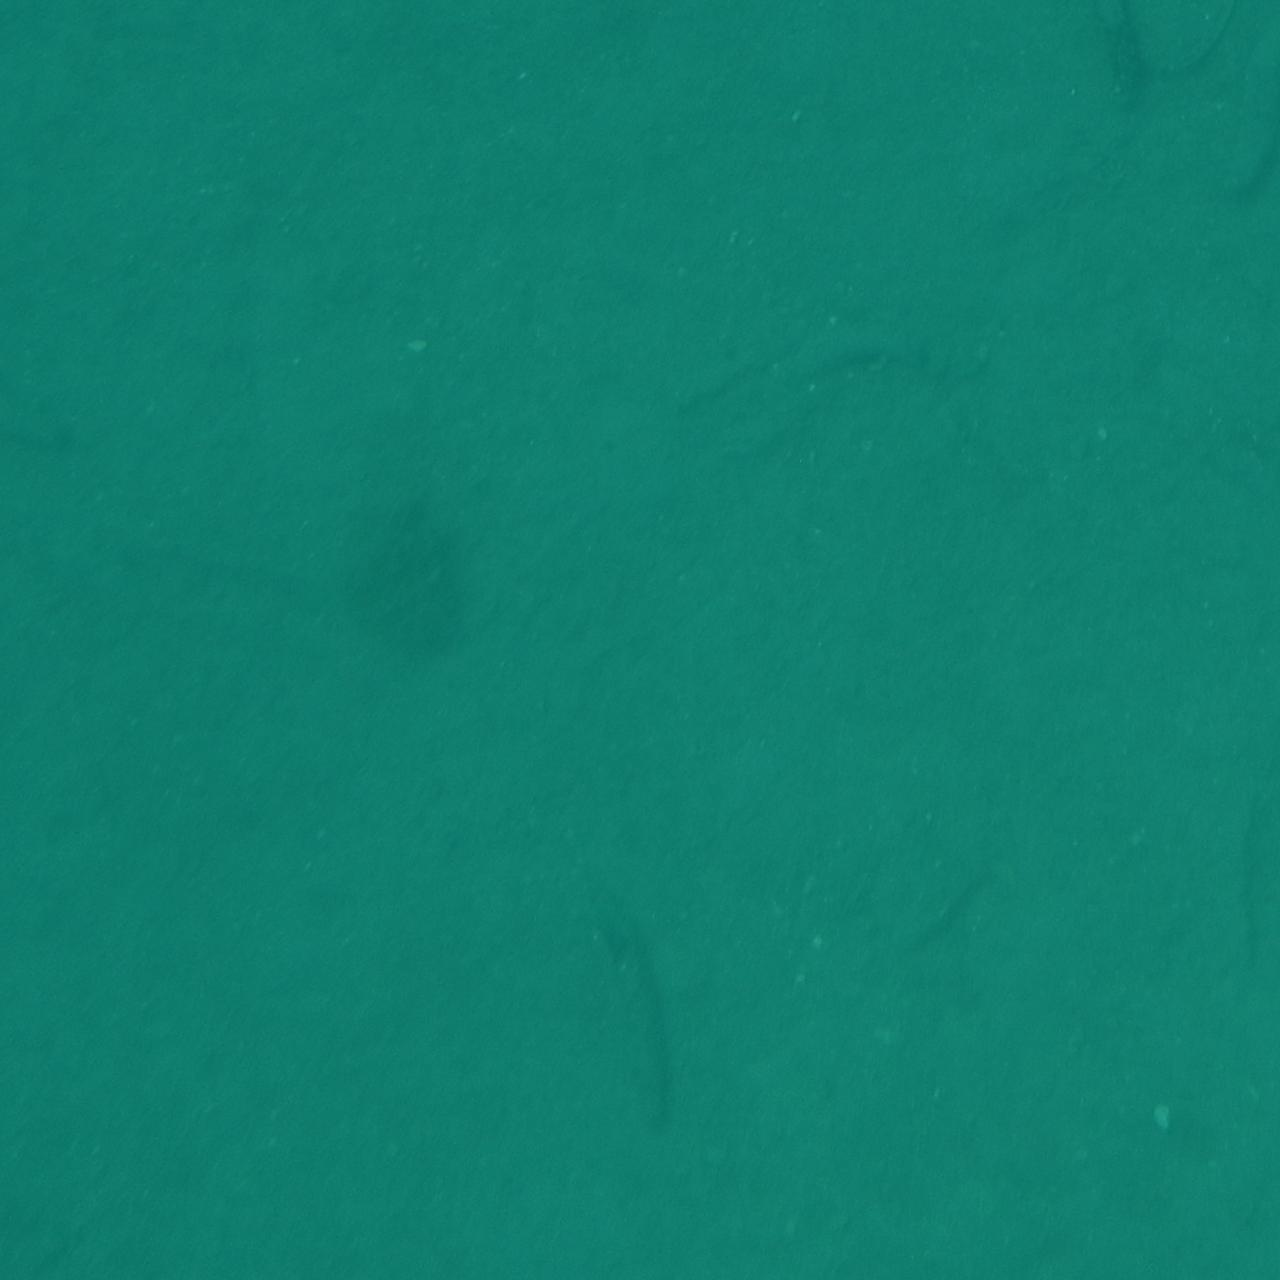Holothuria tubulosa: (586, 920, 694, 1149)
